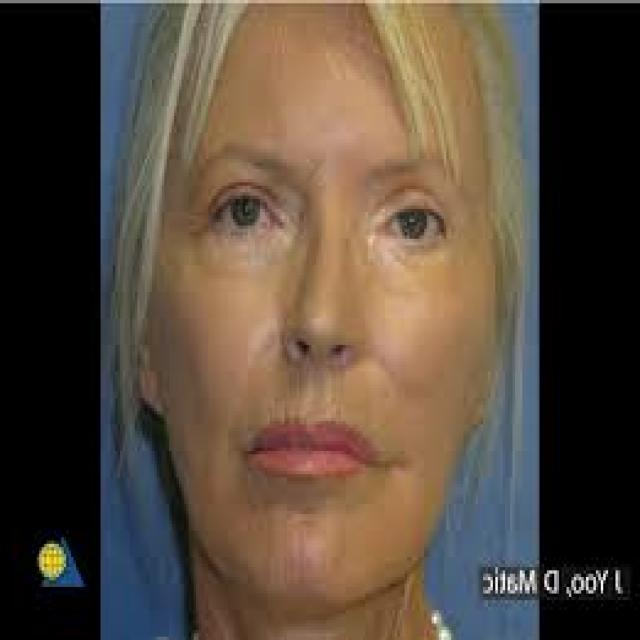stroke_face: (59, 0, 503, 607)
